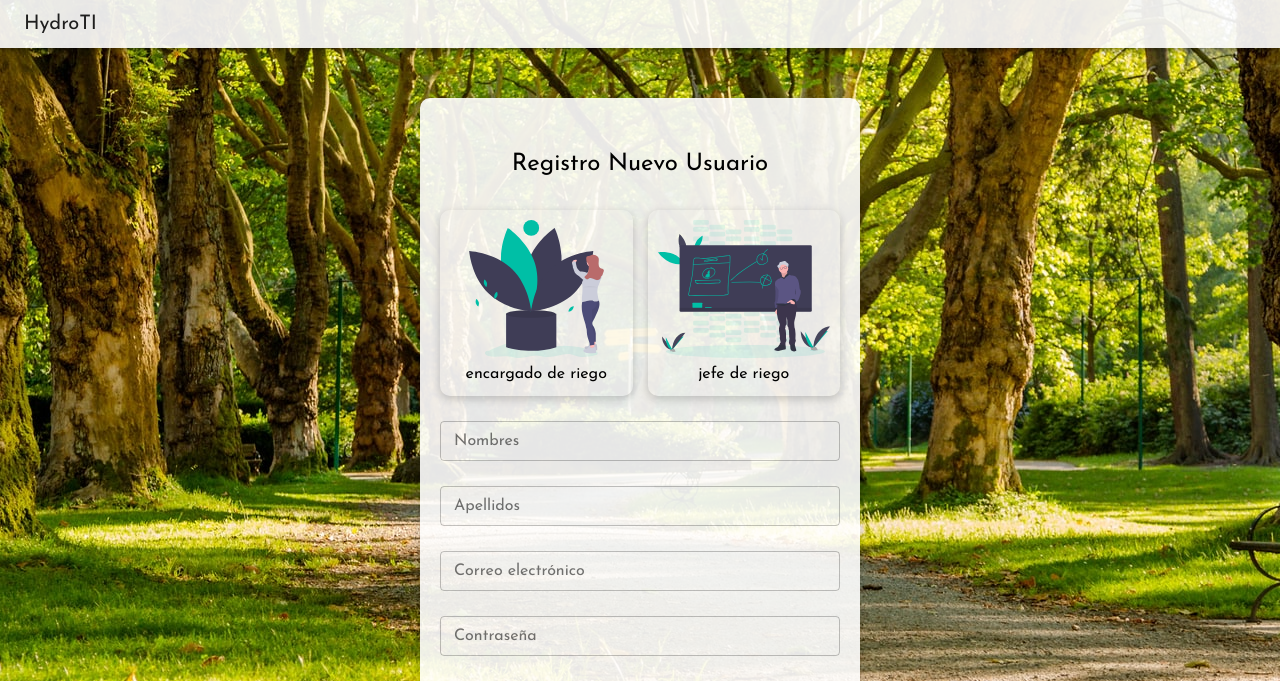
As an user I want to register in the application to enter the plattforms › should check that the password has special characters
Type "password" into the password field with id "sign-up-password" at (640, 636), box [440, 616, 840, 656]
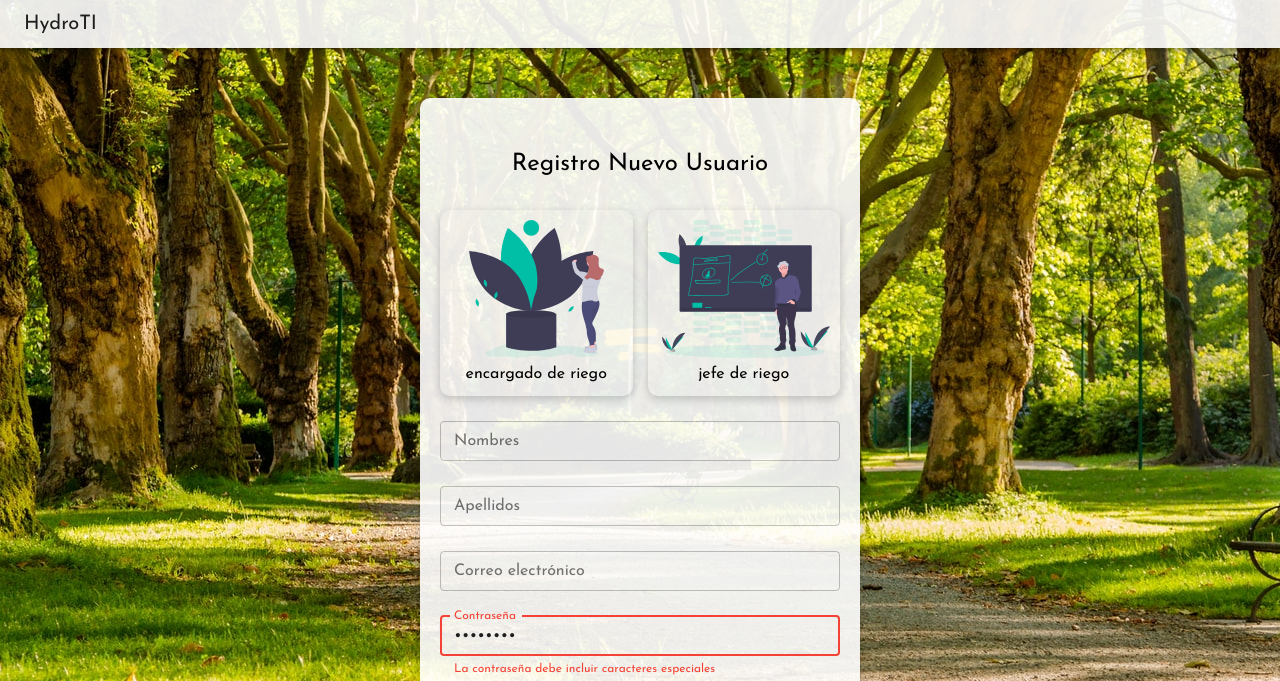
Expected: the text with id "sign-up-password-helper-text" reads "La contraseña debe incluir caracteres especiales", [454, 663, 715, 675]
